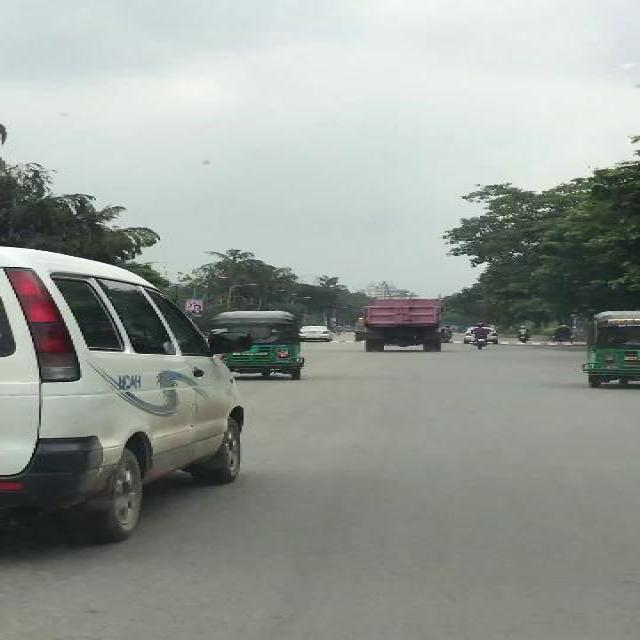car: (300, 324, 334, 342)
minivan: (0, 246, 210, 544)
motorbike: (471, 322, 489, 348), (514, 324, 530, 344)
rickshaw: (550, 323, 574, 345)
three wheelers -CNG-: (206, 308, 306, 384), (582, 307, 638, 391)
truck: (361, 296, 443, 354)
